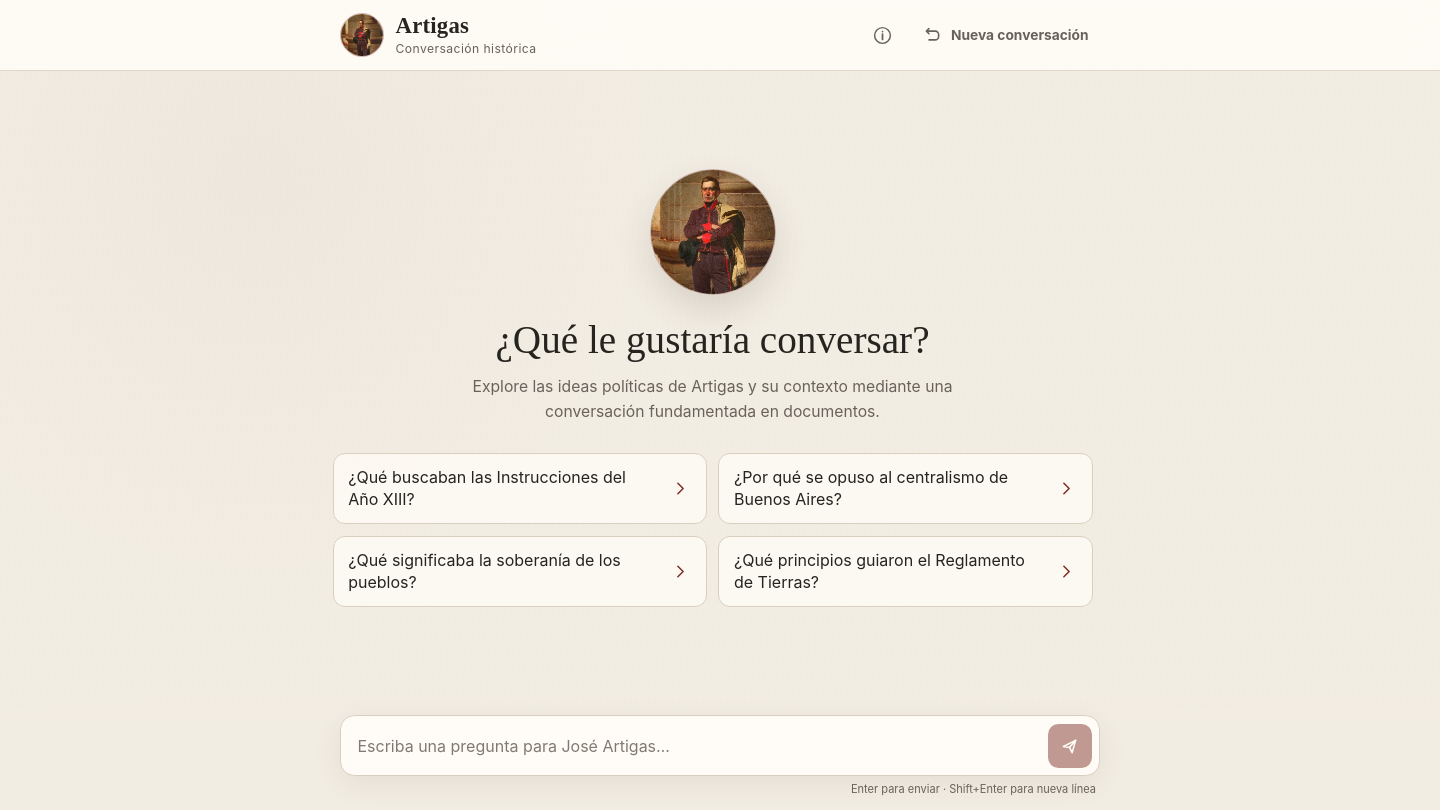
Test: ChatPage › submits a manual question and reconciles progressive text
In the text box labelled "pregunta para José Artigas": (694, 746) 348,723 -> 1041,768, type "  ¿Qué defendía?  "
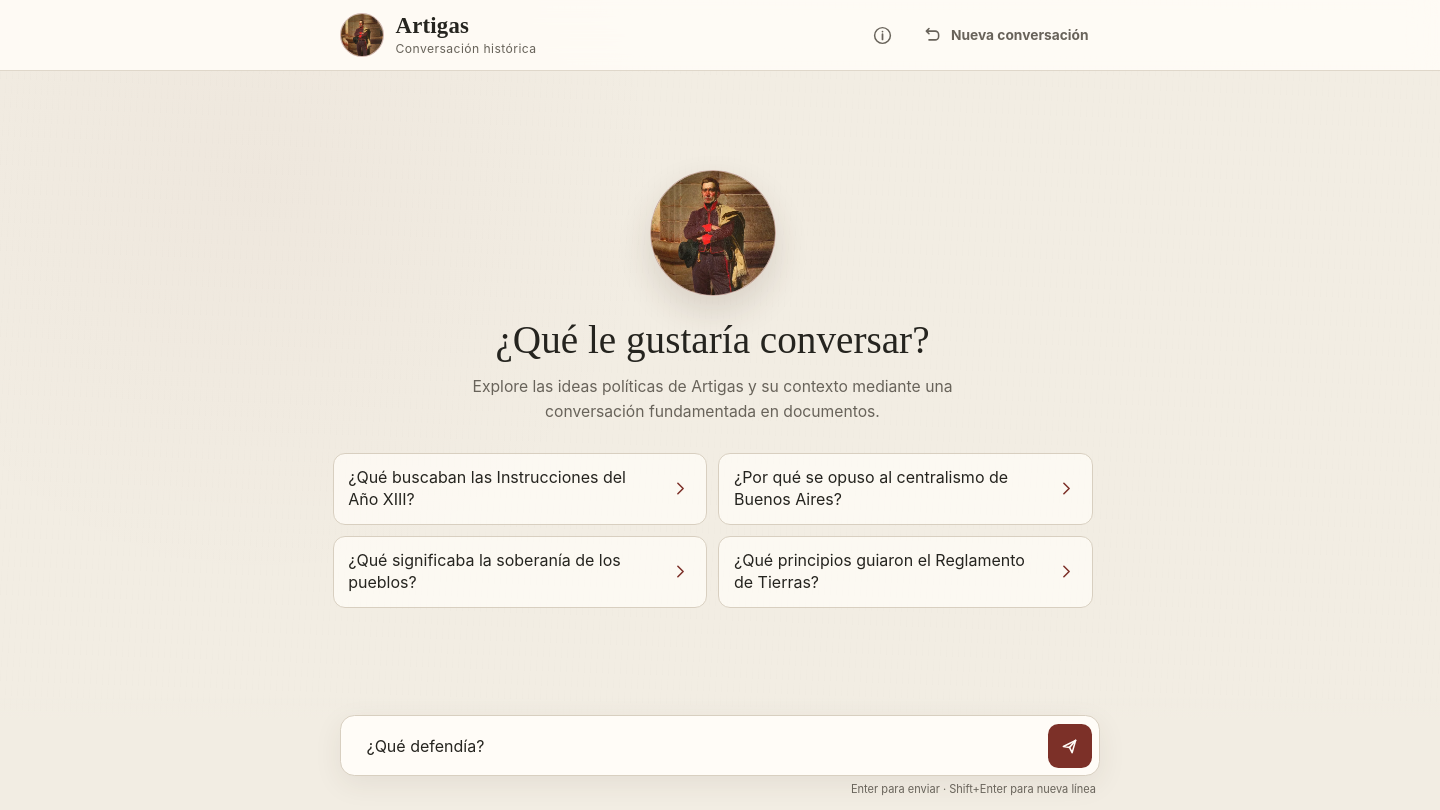
Click the button named "Enviar": (1070, 746) 1048,724 -> 1092,768
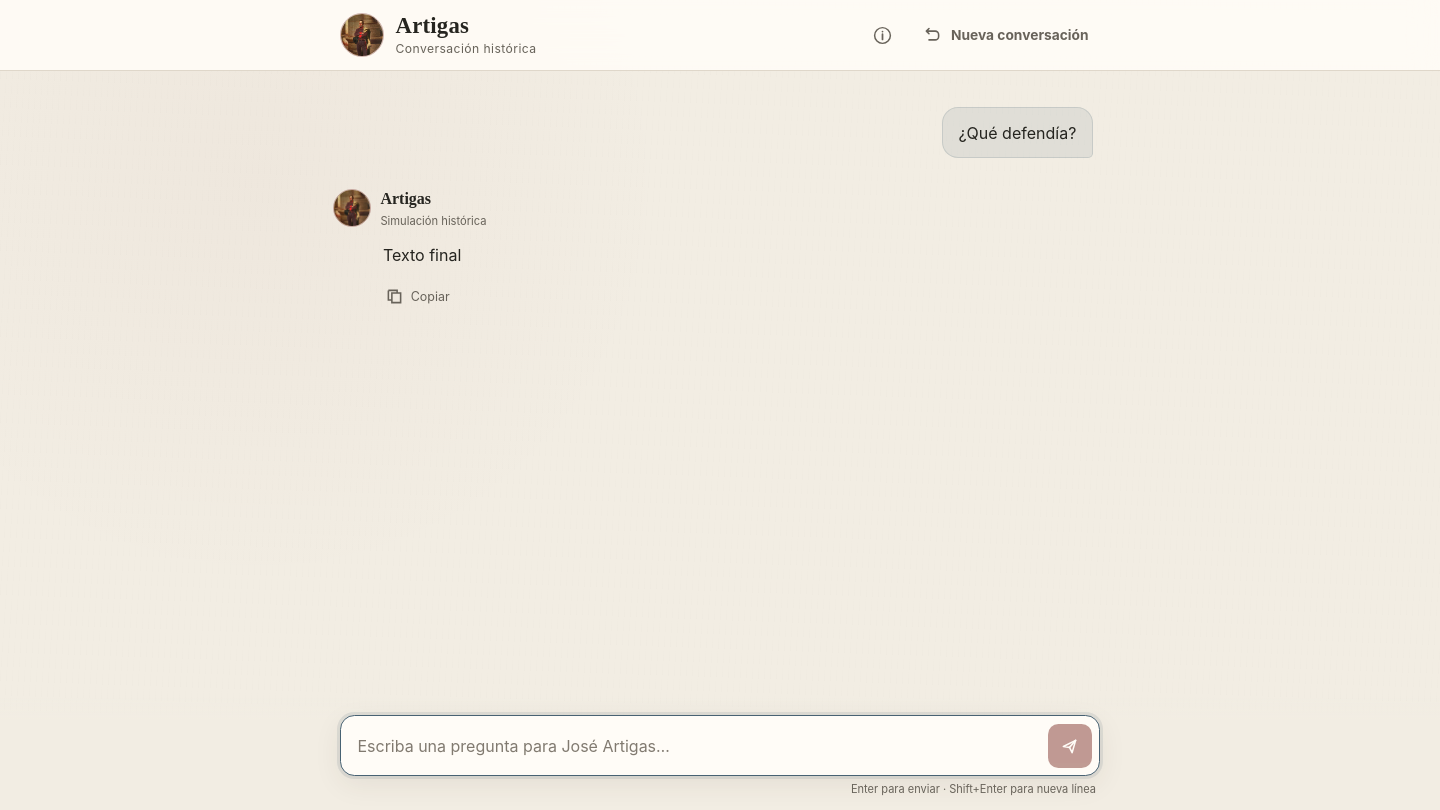
Now the text "¿Qué defendía?" is shown, box 958,120 -> 1076,146
Now the text "Texto final" is shown, box 383,245 -> 461,265
